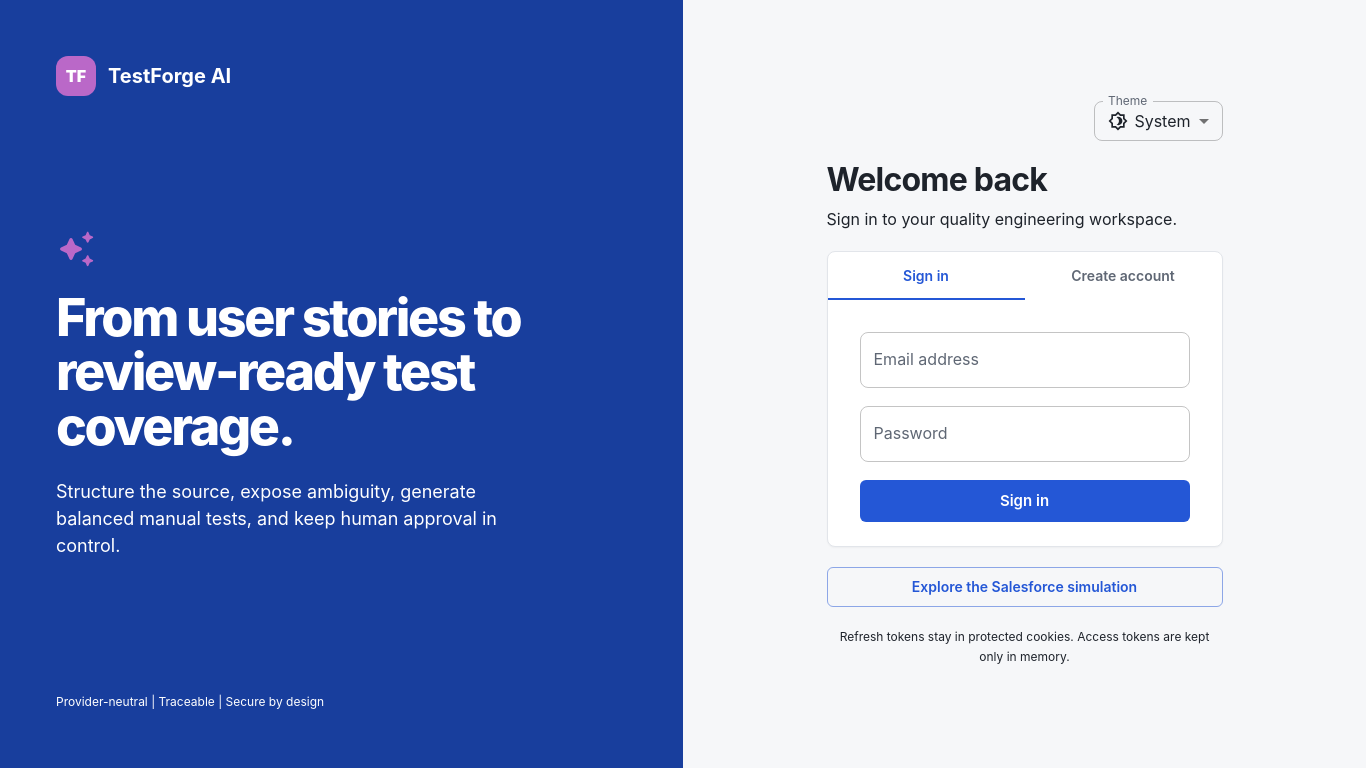
Test: TestForge application › registers a new account without persisting an access token in browser storage
This screenshot has width=1366, height=768.
Click the tab "Create account" at (1123, 276), box [1024,252,1222,300]
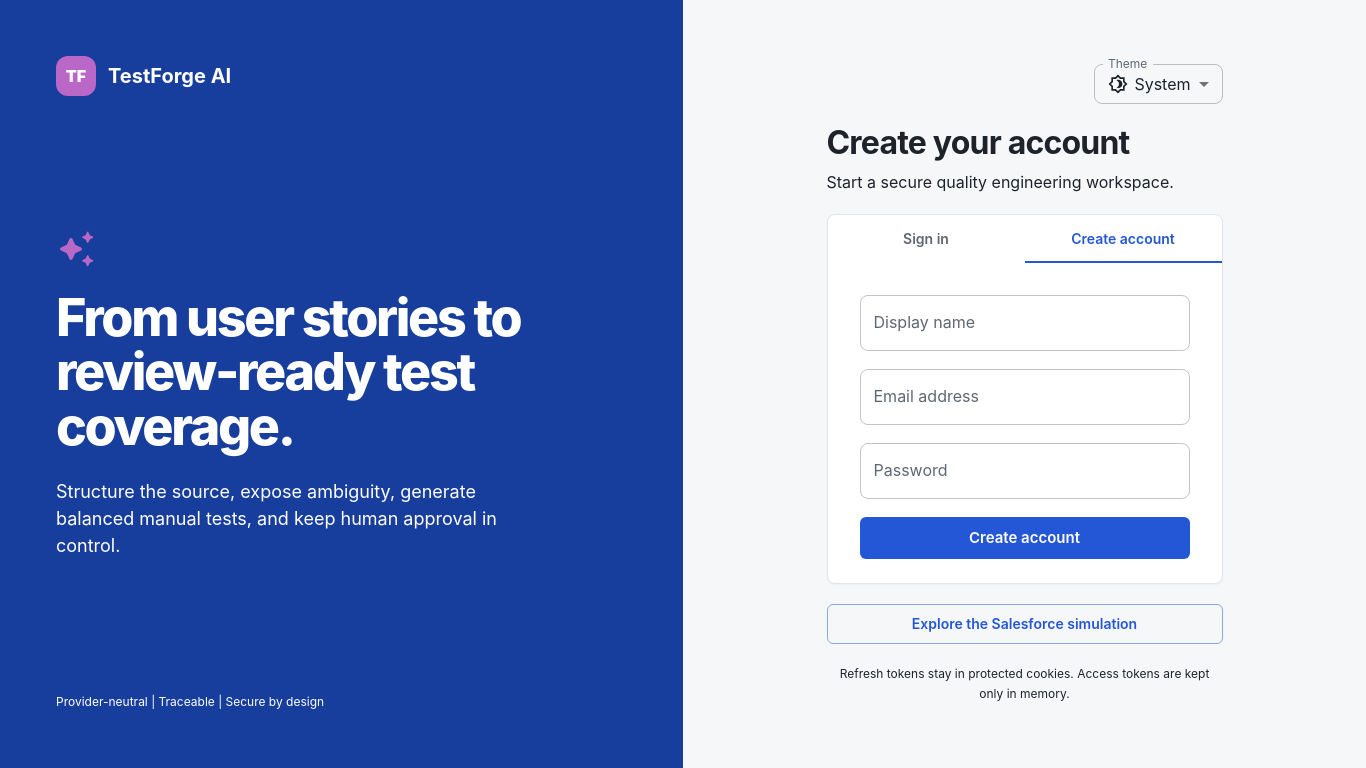
expect the heading "Create your account" is shown: met, box [826,123,1130,162]
expect the text "Start a secure quality engineering workspace." is shown: met, box [826,170,1222,194]
Type "Jordan Lee" into the field labelled "Display name" at (1024, 323), box [860,295,1190,351]
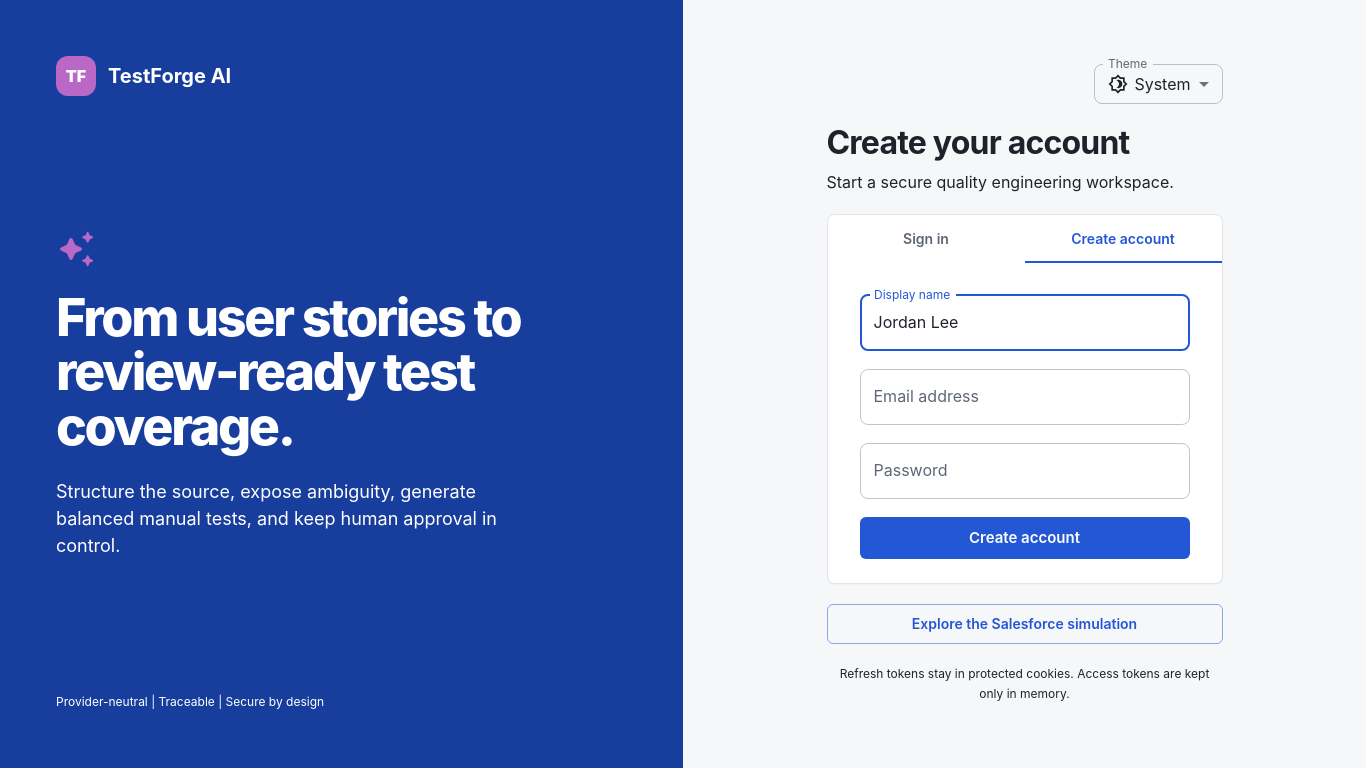
Type "analyst@testforge.local" into the field labelled "Email address" at (1024, 397), box [860,369,1190,425]
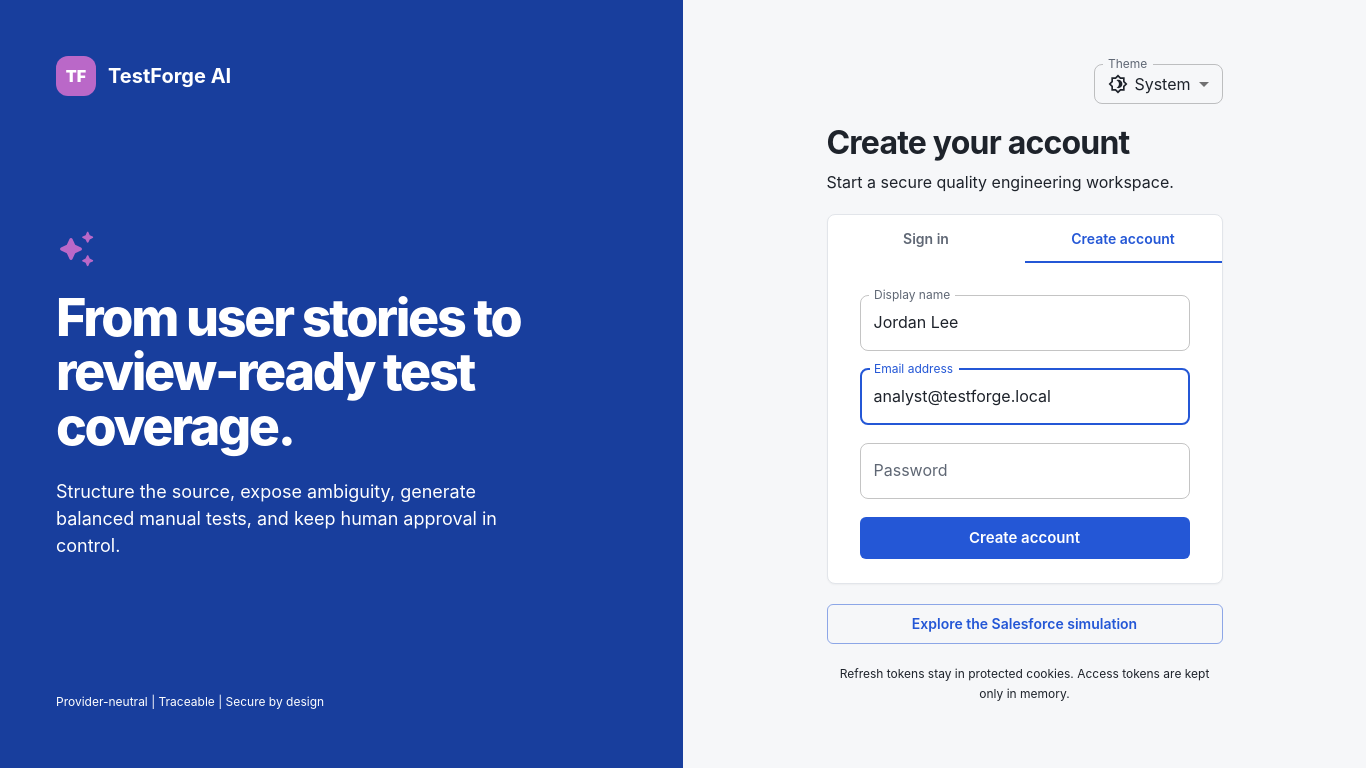
Type "Synthetic!Passphrase2026" into the password field labelled "Password" at (1024, 471), box [860,443,1190,499]
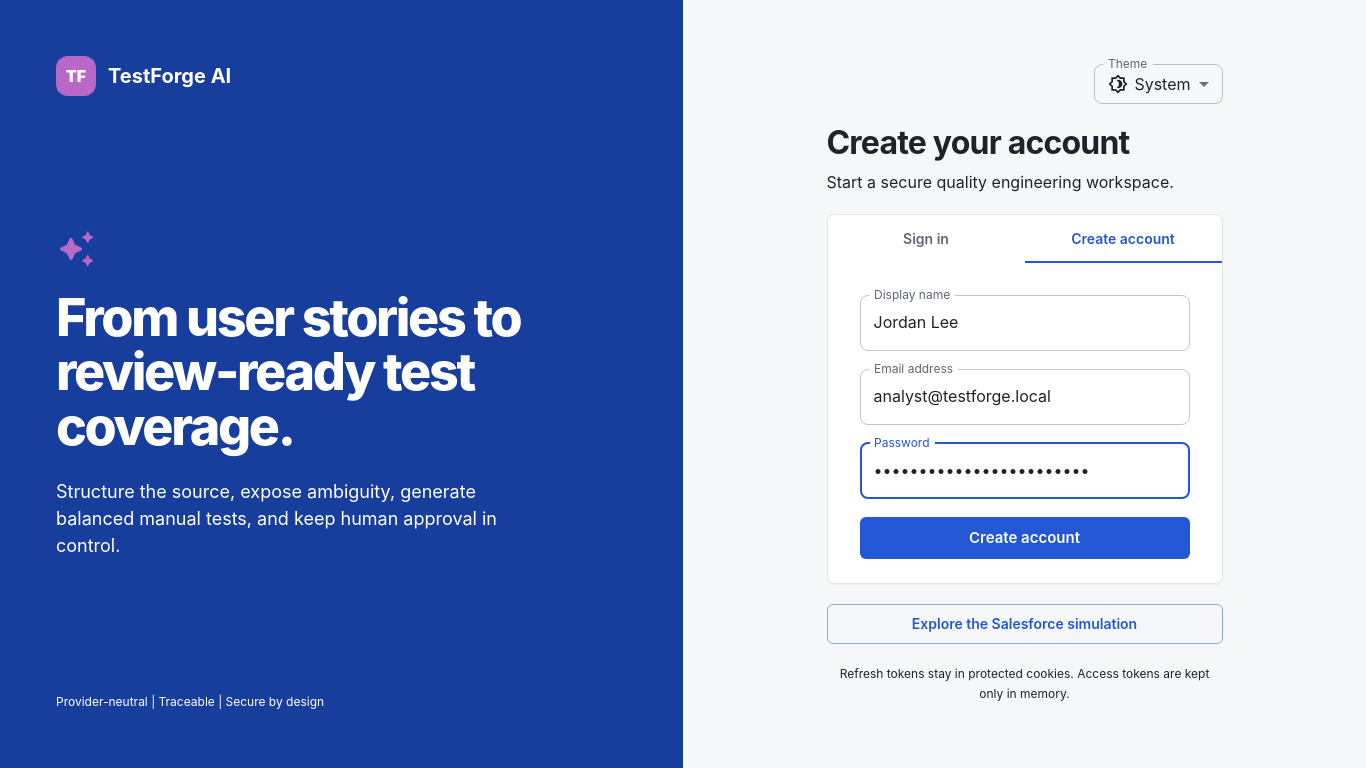
Click the button "Create account" at (1024, 538), box [860,517,1190,559]
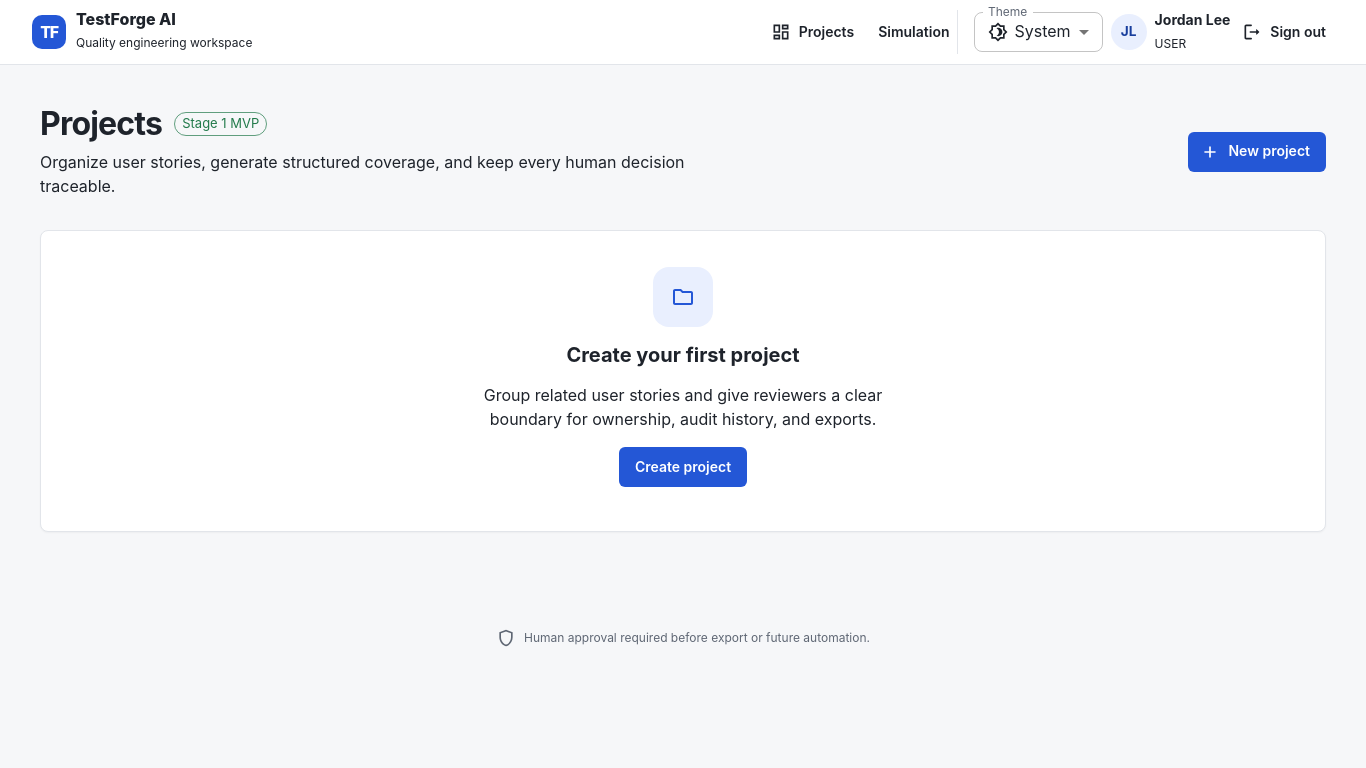
expect the heading "Projects" is shown: met, box [40,105,162,142]
